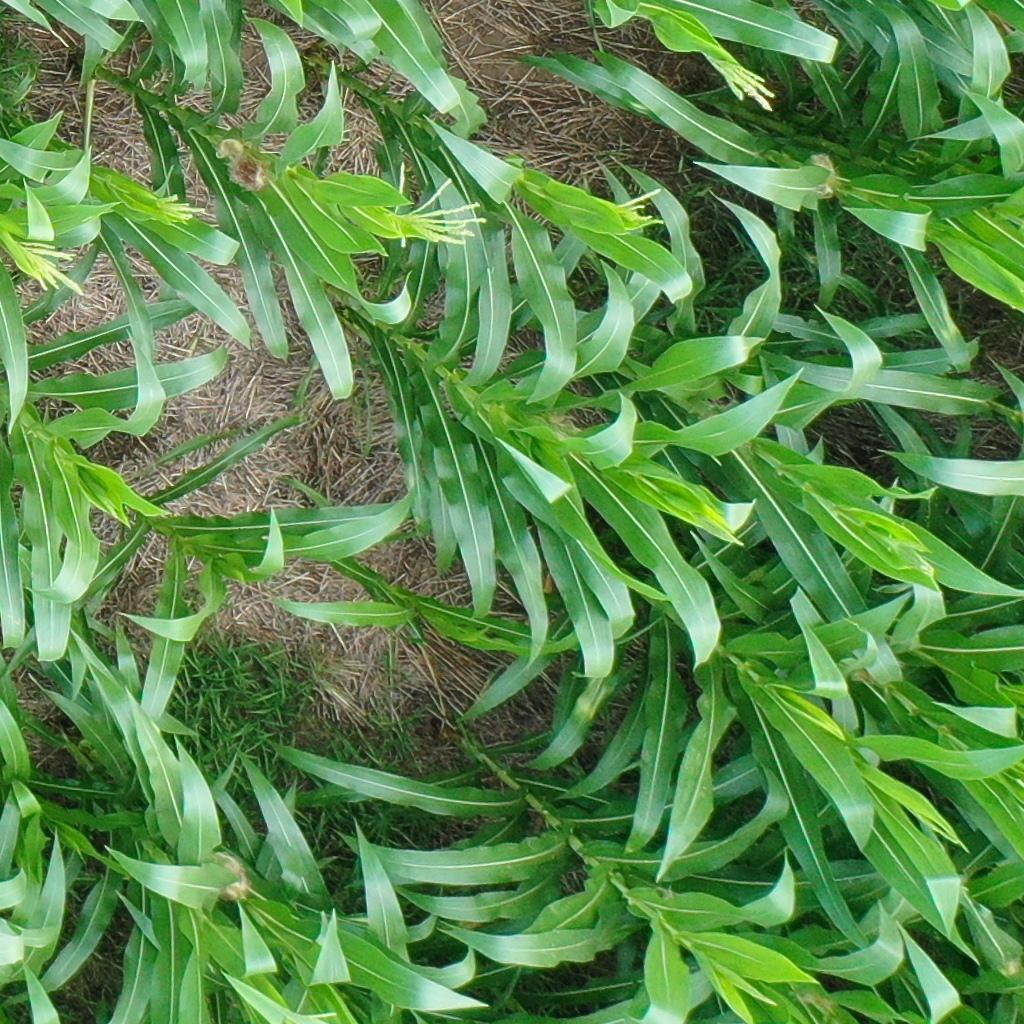Tassel: (387, 161, 487, 250), (699, 43, 777, 115), (8, 234, 86, 297), (615, 190, 664, 234), (150, 190, 207, 226)
